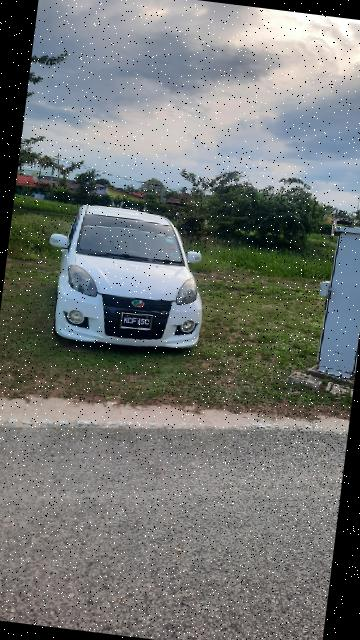License_Plate: (117, 309, 157, 334)
car: (36, 196, 216, 357)
